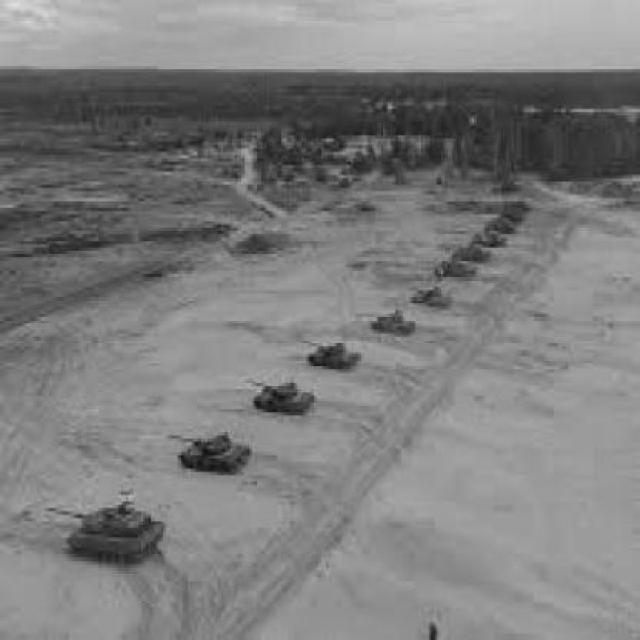Tank: (64, 501, 169, 573), (178, 429, 255, 476), (249, 376, 321, 418), (304, 340, 367, 374), (435, 253, 484, 284), (371, 312, 417, 335), (407, 287, 453, 310)
